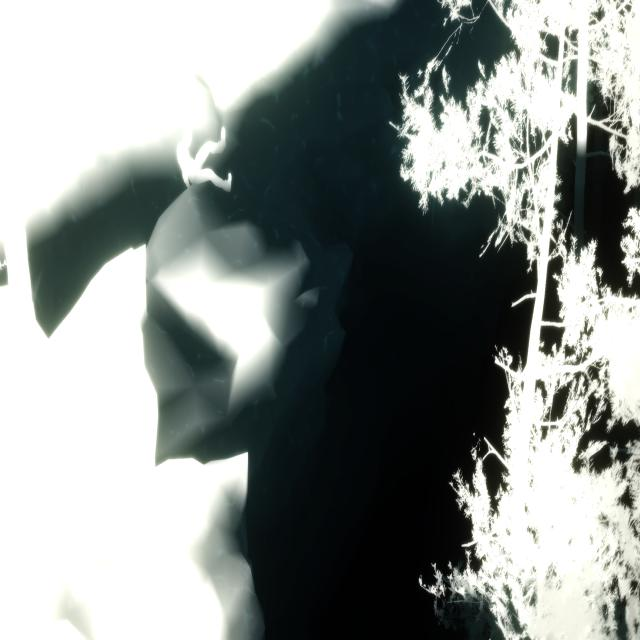Human: (174, 121, 236, 198)
